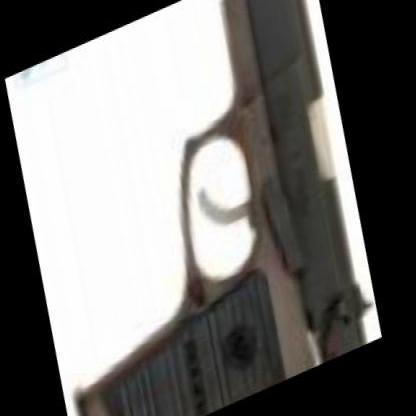pistol: (5, 0, 407, 415)
